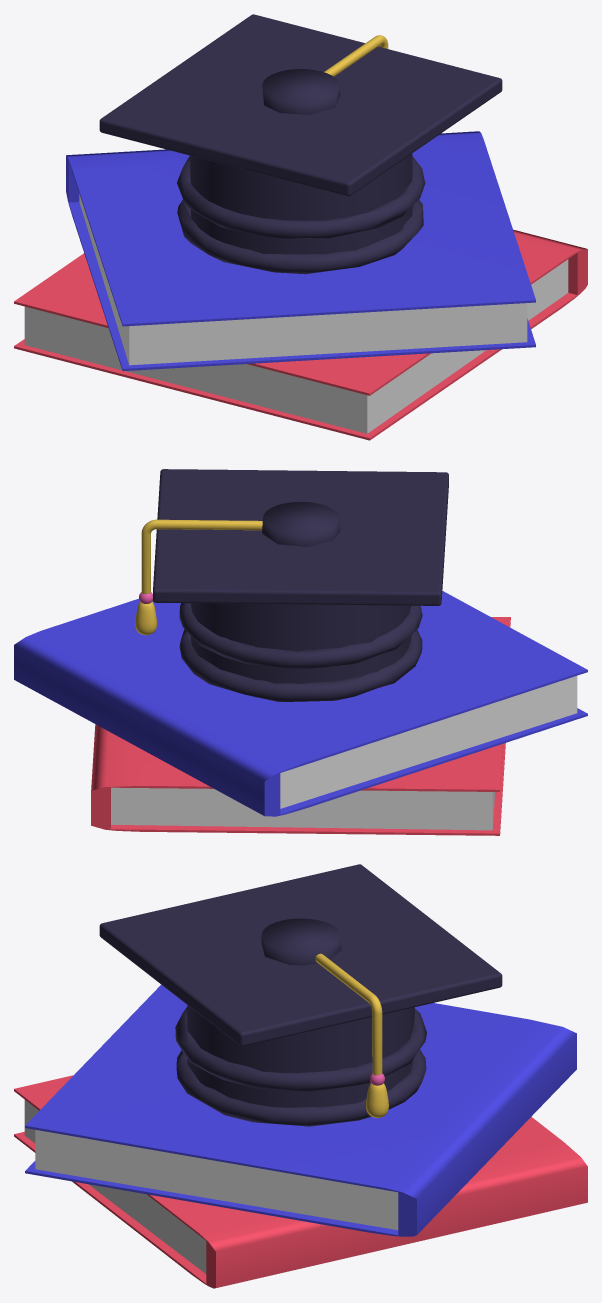
File: birrete.glb
The picture shows the model from 3 angles, top to bottom: view 1: azimuth 30°, elevation 25°; view 2: azimuth 150°, elevation 25°; view 3: azimuth 270°, elevation 25°; orthographic projection. The views are drawn at different scales.
Parts seen in each view (by area): view 1: Cube.001, Torus, Cube, Sphere; view 2: Cube.001, Torus, Cube, Sphere; view 3: Cube.001, Torus, Cube, Sphere.
Part boxes in pixels (x1=…): Cube.001: x1=66, y1=131, x2=535, y2=371; Torus: x1=99, y1=14, x2=502, y2=274; Cube: x1=14, y1=229, x2=587, y2=440; Sphere: x1=324, y1=35, x2=388, y2=76; Cube.001: x1=14, y1=591, x2=587, y2=816; Torus: x1=153, y1=469, x2=448, y2=701; Cube: x1=91, y1=617, x2=510, y2=835; Sphere: x1=135, y1=519, x2=262, y2=635; Cube.001: x1=25, y1=984, x2=576, y2=1236; Torus: x1=99, y1=864, x2=502, y2=1126; Cube: x1=14, y1=1075, x2=587, y2=1288; Sphere: x1=315, y1=953, x2=388, y2=1117.
Bounding box in the file's own units: 2.71 × 1.24 × 2.71.
